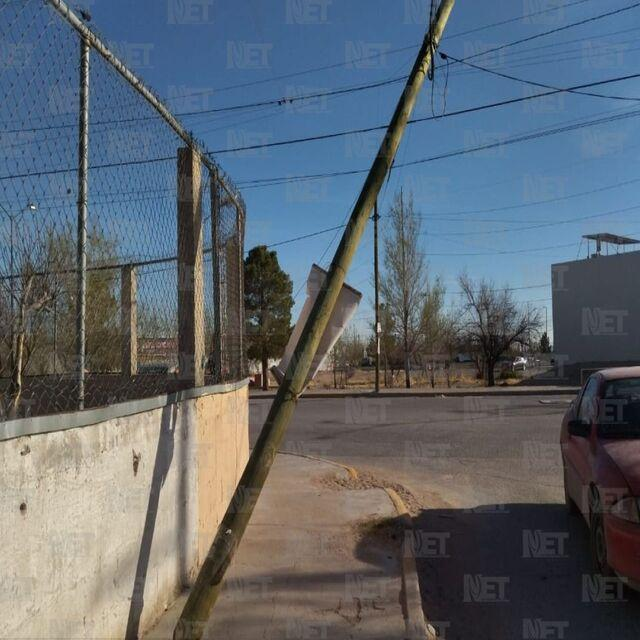Inclined Pole: (167, 0, 454, 640)
